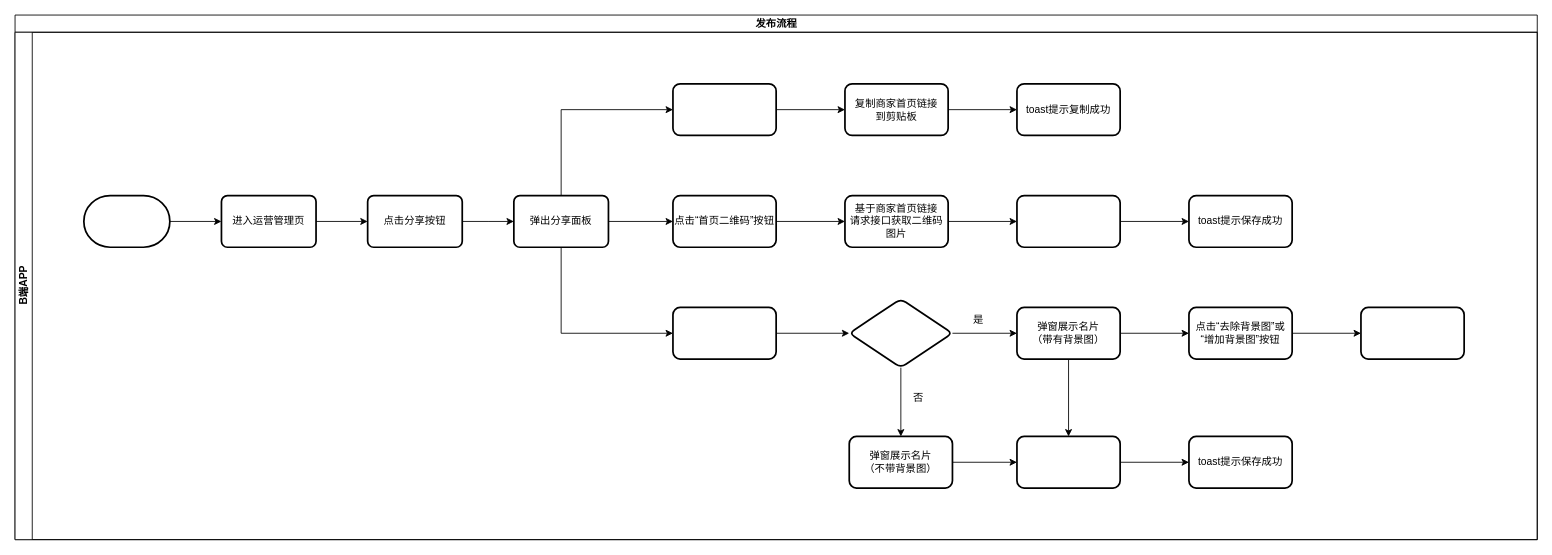
Some shapes in this 1552 by 555 pixel diagram are drawn without their labels. The shapes that lost their labels are listed below. From the top down, each one's centre as x and y in pixels, then its label:
pixel 724 109: 点击“首页链接”按钮
pixel 126 221: 开始
pixel 1068 221: 用户点击保存按钮
pixel 724 332: 点击“首页名片”按钮
pixel 900 333: 是否有配置背景图
pixel 1412 332: 名片对应去除 或者增加背景图
pixel 1068 461: 点击"保存图片"按钮
